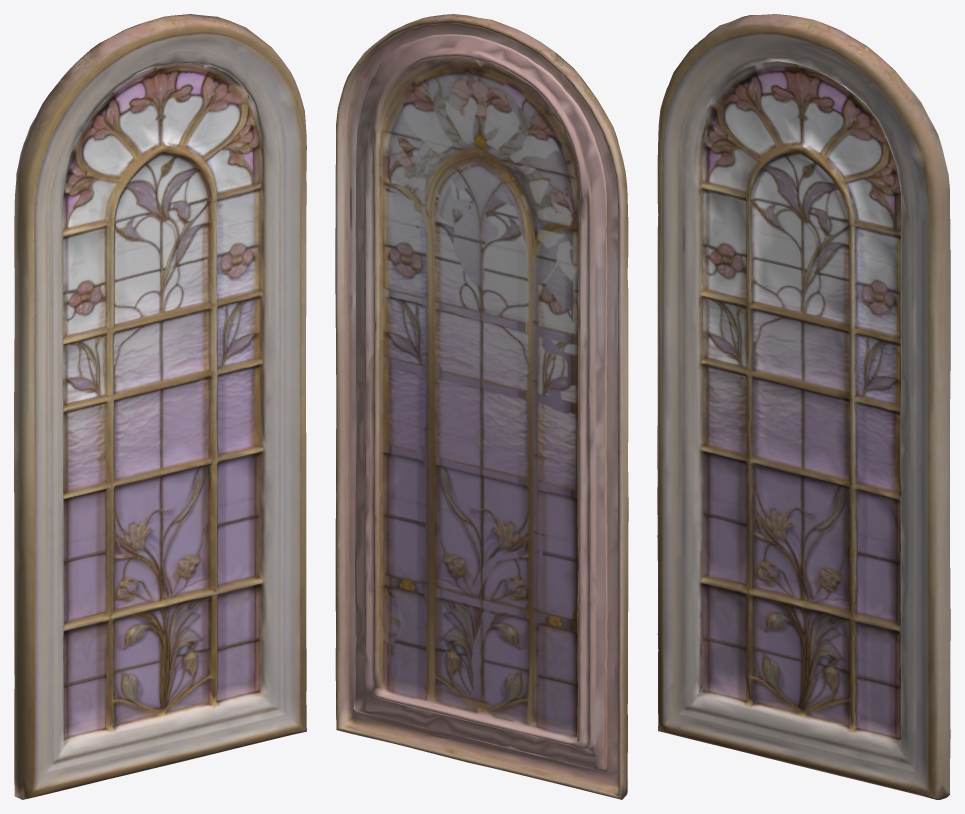
The model's file is Meshy_AI_Object_decorative_wa_1016223748_texture.fbx.
3 renders of one model, left to right at view 1: azimuth 30°, elevation 25°; view 2: azimuth 150°, elevation 25°; view 3: azimuth 330°, elevation 25°, orthographic.
Parts seen in each view (by area): view 1: Mesh_0; view 2: Mesh_0; view 3: Mesh_0.
Part boxes in pixels (bbox=[...]): Mesh_0: bbox=[14, 14, 306, 799]; Mesh_0: bbox=[335, 14, 628, 799]; Mesh_0: bbox=[657, 14, 950, 799].
Bounding box in the file's own units: 80.88 × 200 × 6.56.
1 material, 1 textured.
